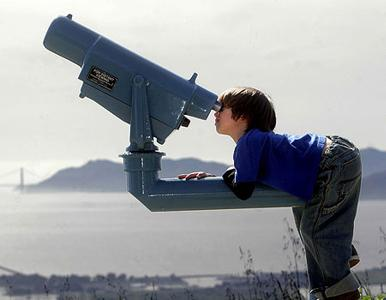person: (179, 87, 363, 300)
